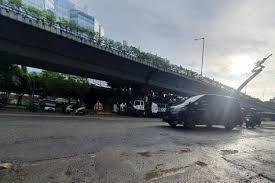Pothole: (130, 160, 211, 179), (234, 162, 275, 183), (124, 144, 165, 160), (48, 166, 84, 183), (174, 145, 197, 157)
